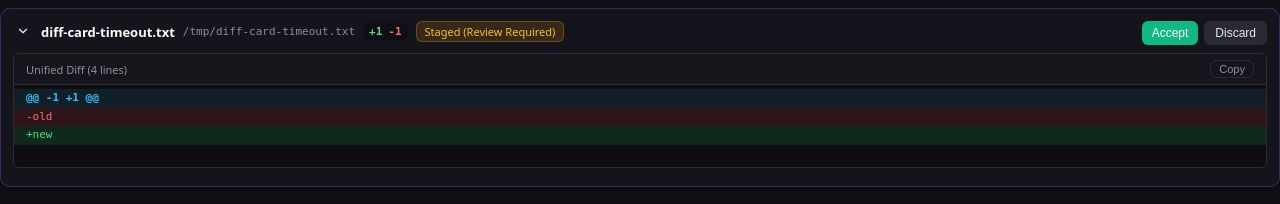
Test case: DiffCard discard timeout plus retry › flips to Discarded immediately on HTTP 200
Click the button "Discard" at coordinates (1236, 33), box [1204,21,1267,45]
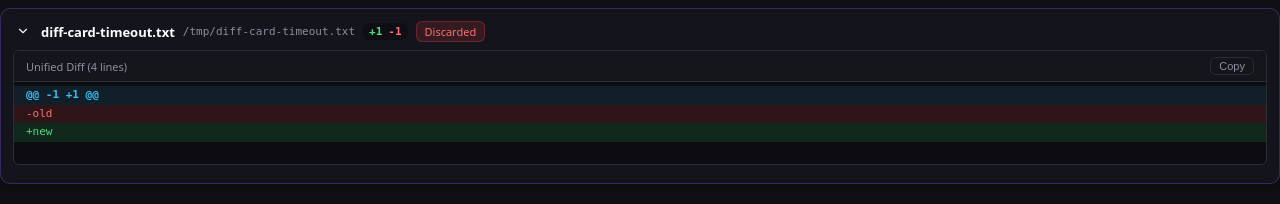
Now the text "Discarded" is shown, box [416,21,485,42]
